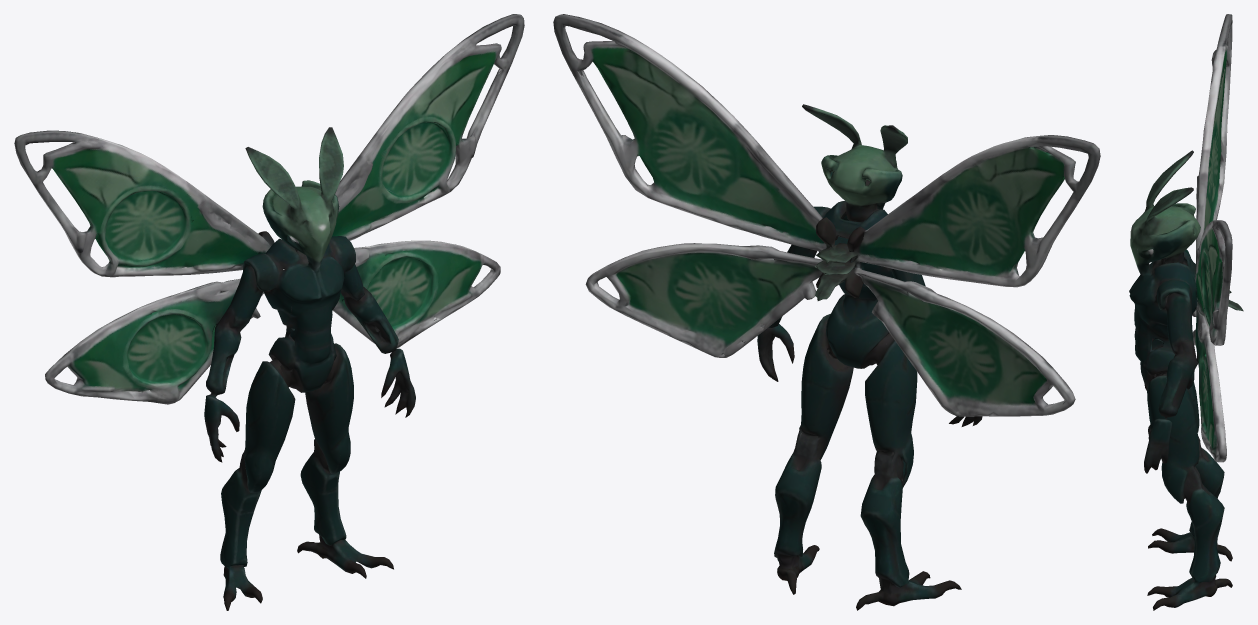
File: vb-boss-storm.glb
The picture shows the model from 3 angles, left to right: view 1: azimuth 30°, elevation 25°; view 2: azimuth 150°, elevation 25°; view 3: azimuth 270°, elevation 25°; orthographic projection. The views are drawn at different scales.
Parts seen in each view (by area): view 1: world; view 2: world; view 3: world.
Boxes of the visible parts, x1,y1,x2,y2 form: world: [14, 14, 524, 610]; world: [553, 14, 1100, 610]; world: [1129, 14, 1243, 610].
Bounding box in the file's own units: 1 × 0.9202 × 0.2126.
Materials: 1 (1 with a texture image).
